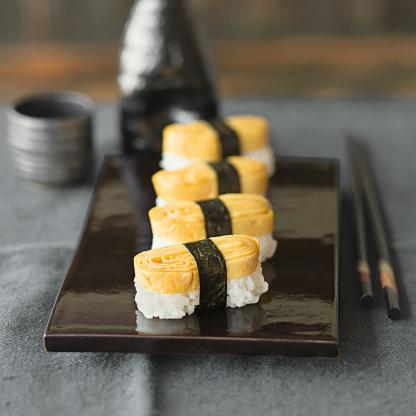tamago: (124, 231, 271, 324)
